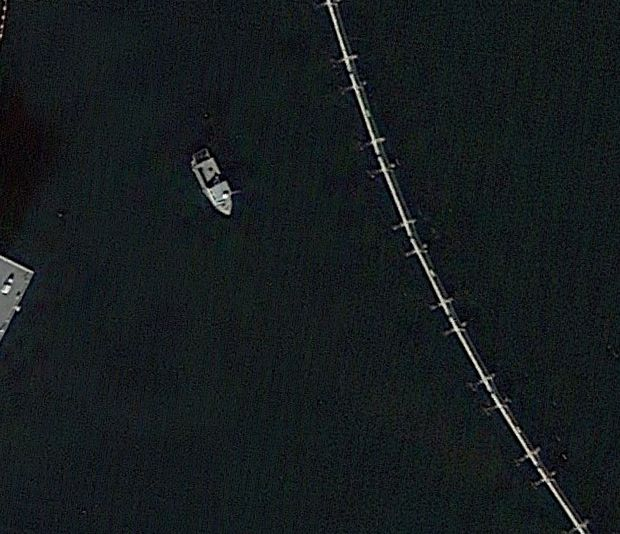boat: (189, 146, 236, 218)
